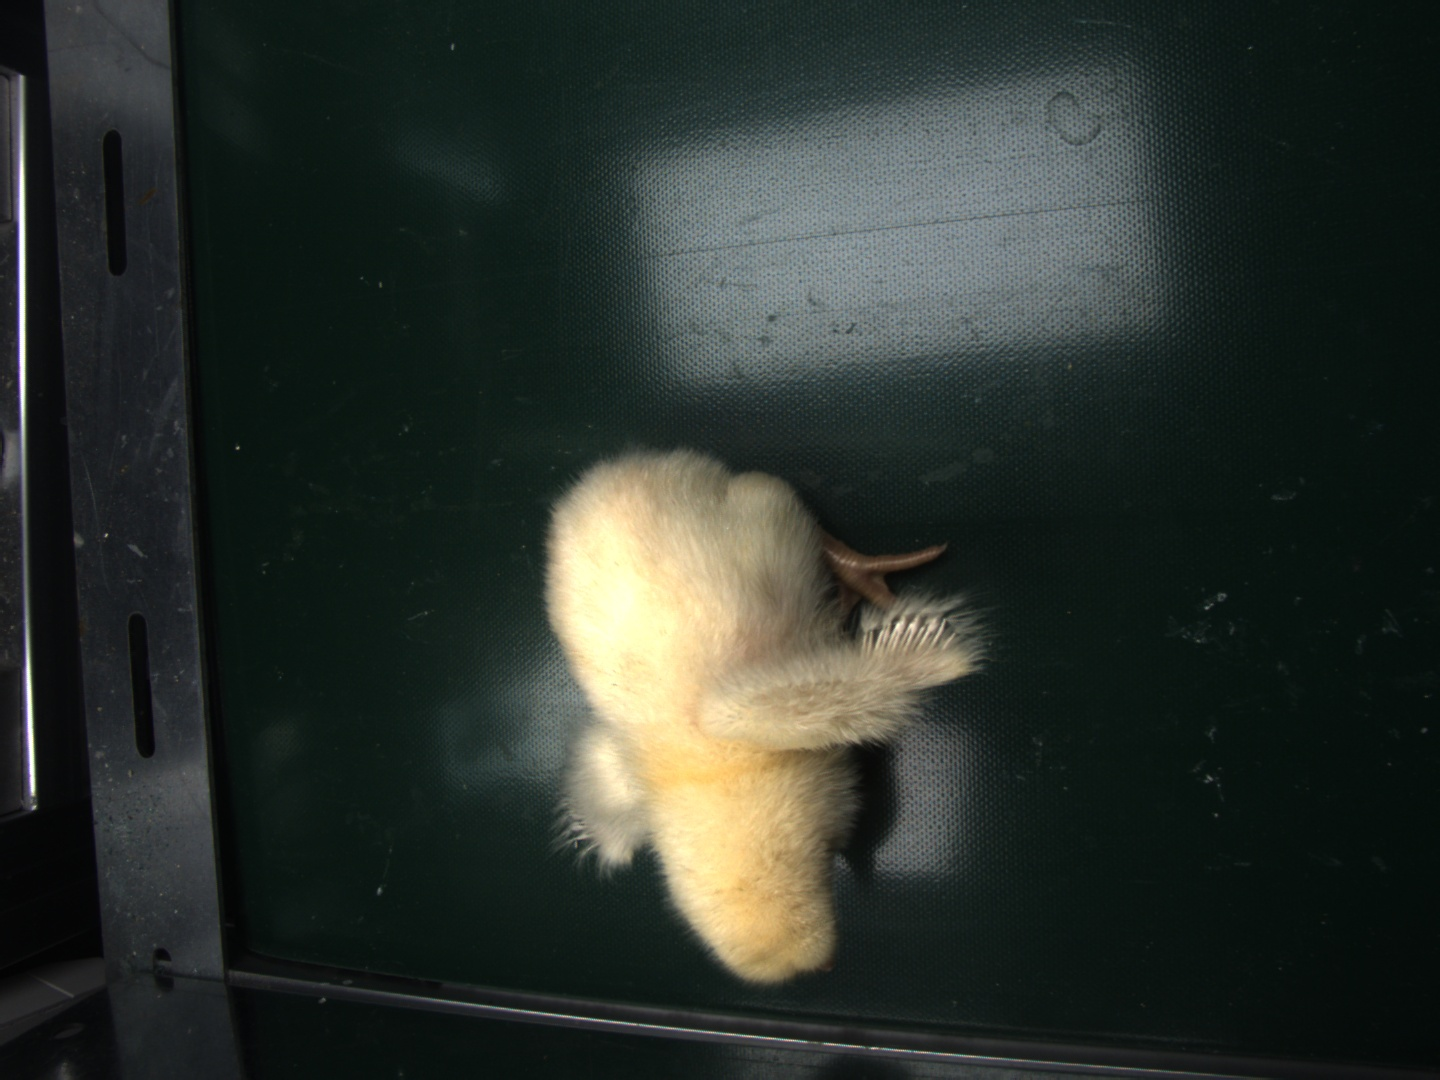male: (869, 610, 960, 660)
